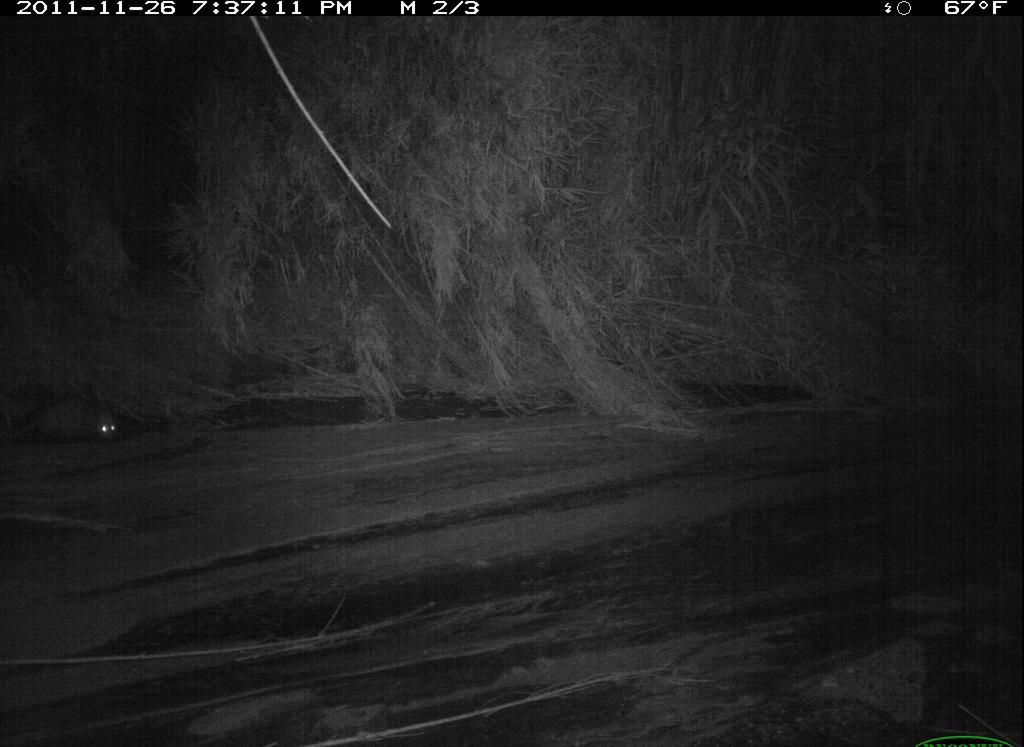opossum: (2, 393, 127, 457)
